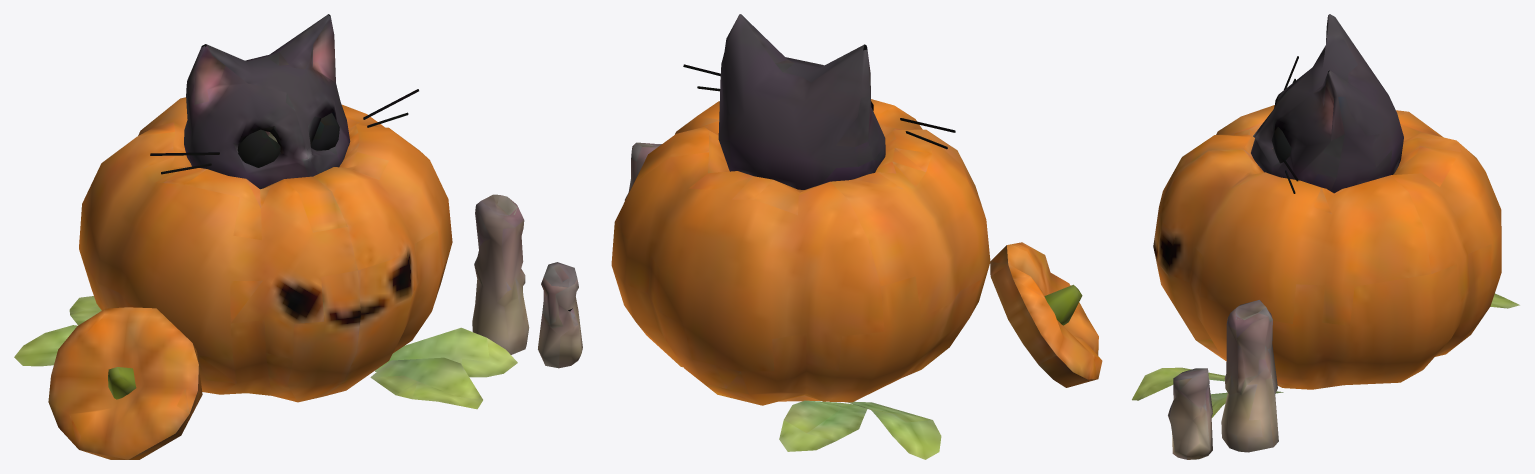
The model's file is spooky-pumpkin-cat.lod.glb.
The picture shows the model from 3 angles, left to right: view 1: azimuth 30°, elevation 25°; view 2: azimuth 150°, elevation 25°; view 3: azimuth 270°, elevation 25°; orthographic projection. The views are drawn at different scales.
Visible parts, largest first — view 1: eyes_interior_Eyes_Interior_0; view 2: eyes_interior_Eyes_Interior_0; view 3: eyes_interior_Eyes_Interior_0.
Part boxes in pixels (box(x1,y1,x2,y2)): eyes_interior_Eyes_Interior_0: box(14, 14, 582, 459); eyes_interior_Eyes_Interior_0: box(611, 14, 1102, 459); eyes_interior_Eyes_Interior_0: box(1132, 14, 1519, 459).
Size of the model in its own units: 203 by 135 by 150.
Materials: 1 (1 with a texture image).
